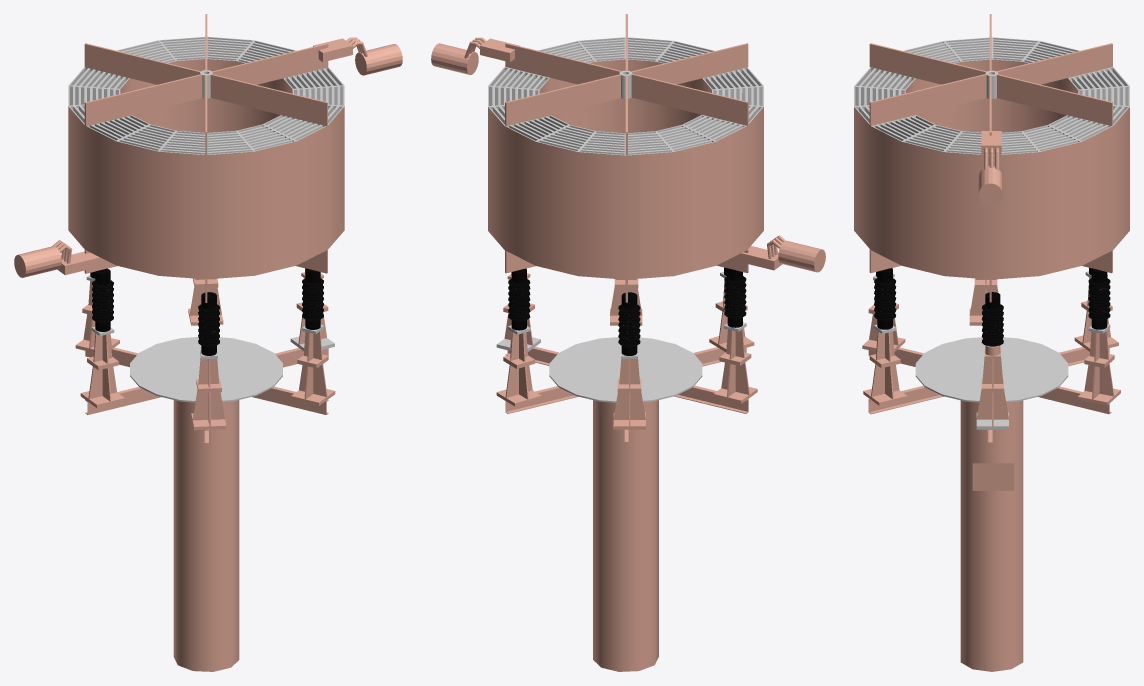
Rendered from 良庆站220kV_10kV_变电设备_一次设备_电抗器_d94343c.glb.
3 views of the same model, side by side, from view 1: azimuth 30°, elevation 25°; view 2: azimuth 150°, elevation 25°; view 3: azimuth 270°, elevation 25° (orthographic).
Visible parts, largest first — view 1: 良庆站220kV_10kV_变电设备_一次设备_电抗器_d94; view 2: 良庆站220kV_10kV_变电设备_一次设备_电抗器_d94; view 3: 良庆站220kV_10kV_变电设备_一次设备_电抗器_d94.
Boxes of the visible parts, <box> form: 良庆站220kV_10kV_变电设备_一次设备_电抗器_d94: <box>14,14,402,671</box>; 良庆站220kV_10kV_变电设备_一次设备_电抗器_d94: <box>431,14,825,671</box>; 良庆站220kV_10kV_变电设备_一次设备_电抗器_d94: <box>854,14,1129,671</box>.
Bounding box in the file's own units: 3.39 × 4.99 × 2.13.
